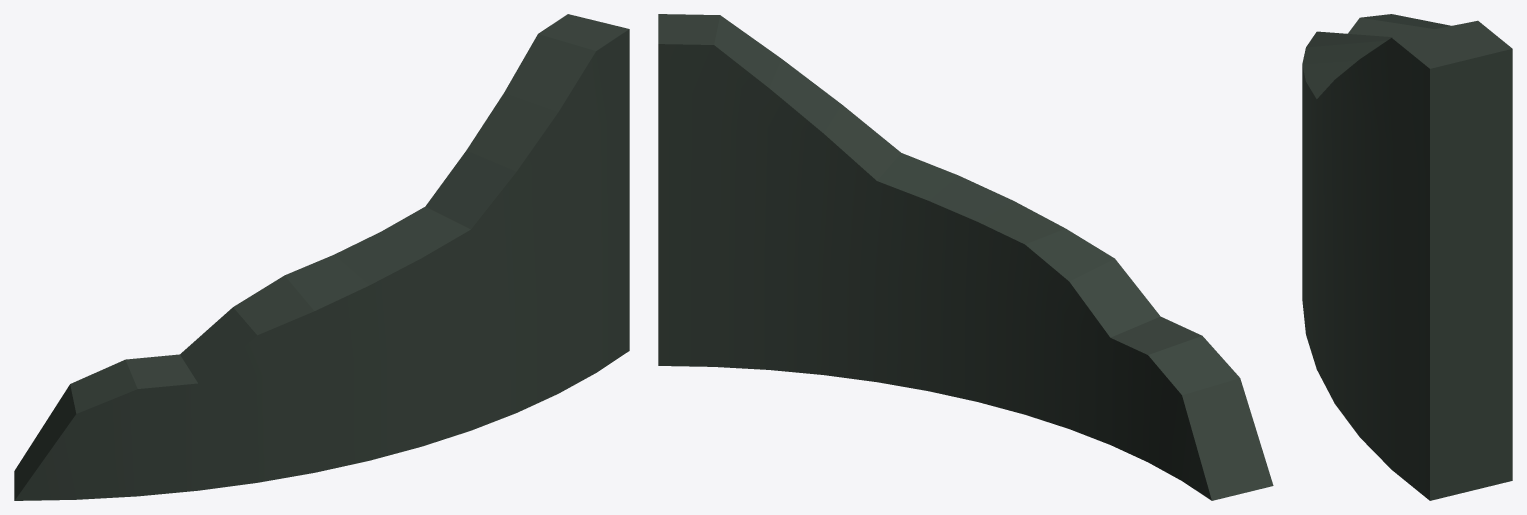
File: SM_WallRingLarge_DamageFull_L.fbx
3 renders of one model, left to right at view 1: azimuth 30°, elevation 25°; view 2: azimuth 150°, elevation 25°; view 3: azimuth 270°, elevation 25°, orthographic. The views are drawn at different scales.
Visible parts, largest first — view 1: SM_WallRingLarge_DamageFull_Flip; view 2: SM_WallRingLarge_DamageFull_Flip; view 3: SM_WallRingLarge_DamageFull_Flip.
Part boxes in pixels (left/top/right/bottom): SM_WallRingLarge_DamageFull_Flip: left=14, top=14, right=629, bottom=500; SM_WallRingLarge_DamageFull_Flip: left=658, top=14, right=1273, bottom=500; SM_WallRingLarge_DamageFull_Flip: left=1302, top=14, right=1512, bottom=500.
Bounding box in the file's own units: 1000 × 500 × 221.
Materials: 1 (1 with a texture image).
